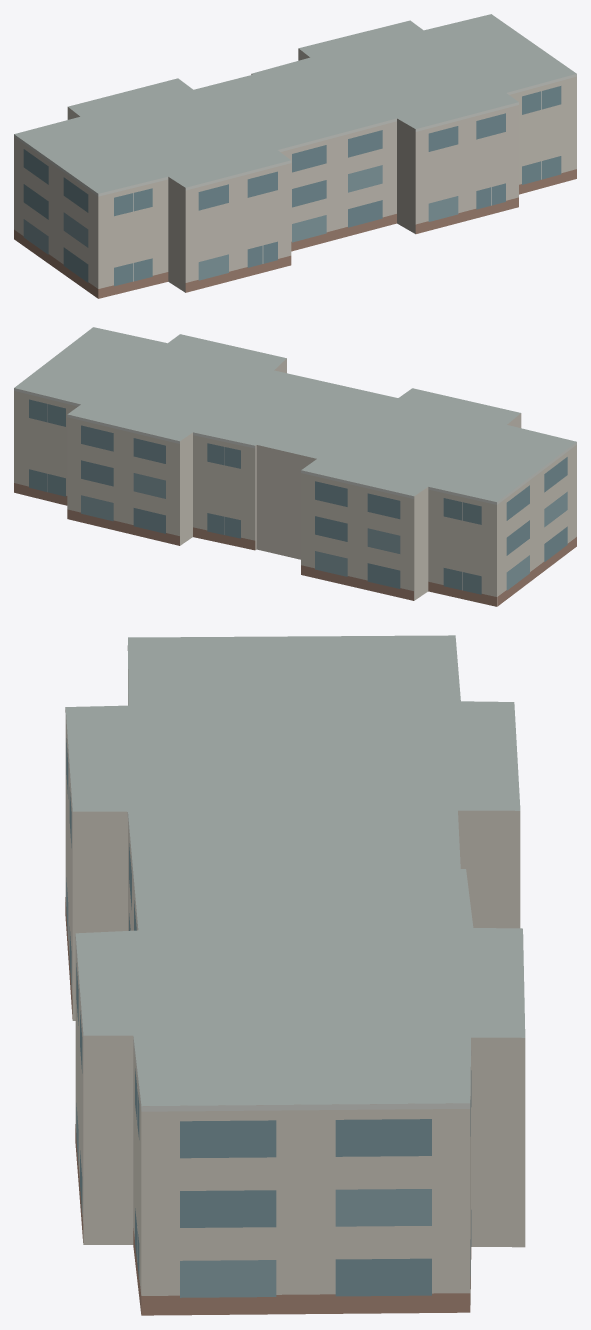
File: survey-upis-32833627.glb
3 renders of one model, top to bottom at view 1: azimuth 30°, elevation 25°; view 2: azimuth 150°, elevation 25°; view 3: azimuth 270°, elevation 25°, orthographic. The views are drawn at different scales.
Parts seen in each view (by area): view 1: survey-upis-32833627.tmp; view 2: survey-upis-32833627.tmp; view 3: survey-upis-32833627.tmp.
Part boxes in pixels (x1,y1,x2,y2): survey-upis-32833627.tmp: [14, 14, 576, 298]; survey-upis-32833627.tmp: [14, 327, 576, 606]; survey-upis-32833627.tmp: [65, 635, 525, 1315].
Size of the model in its own units: 44.13 by 9.15 by 18.22.
